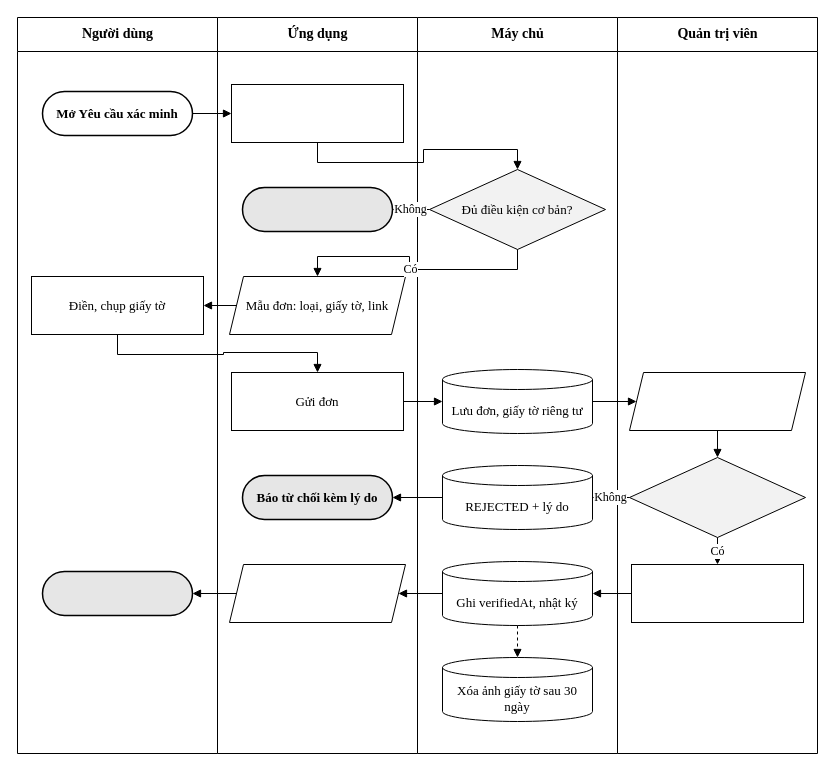
Some shapes in this 835 by 771 pixel diagram are drawn without their labels. The centre of each missing label's shape, as x and y in pixels:
Duyệt đơn: the point at 717,593
Dấu tick hiện trên hồ sơ: the point at 117,593
Giấy tờ khớp, đủ nổi bật?: the point at 717,497
Hiện điều kiện còn thiếu: the point at 317,209
Hàng đợi xác minh: the point at 717,401
Hỏi điều kiện: the point at 317,113
Thông báo: đã xác minh: the point at 317,593
